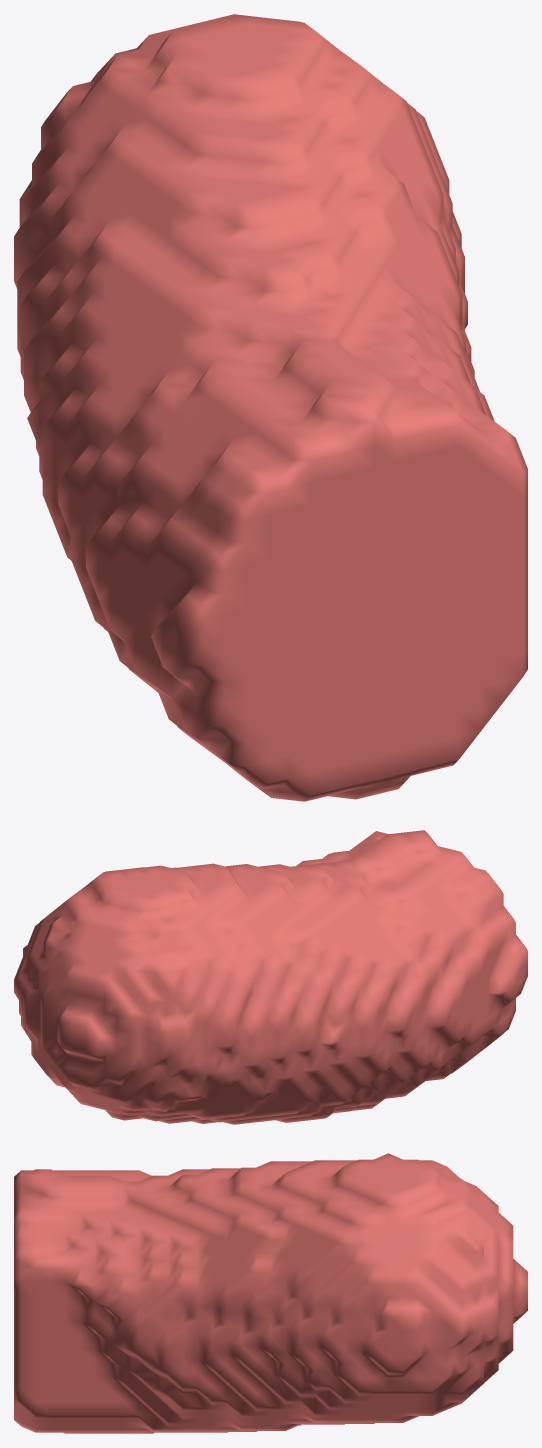
Rendered from aorta.glb.
The picture shows the model from 3 angles, top to bottom: view 1: azimuth 30°, elevation 25°; view 2: azimuth 150°, elevation 25°; view 3: azimuth 270°, elevation 25°; orthographic projection. The views are drawn at different scales.
Visible parts, largest first — view 1: structure; view 2: structure; view 3: structure.
Part boxes in pixels (x1,y1,x2,y2): structure: (14, 14, 527, 801); structure: (14, 830, 527, 1124); structure: (14, 1153, 527, 1433).
Size of the model in its own units: 41.6 by 35.2 by 56.
